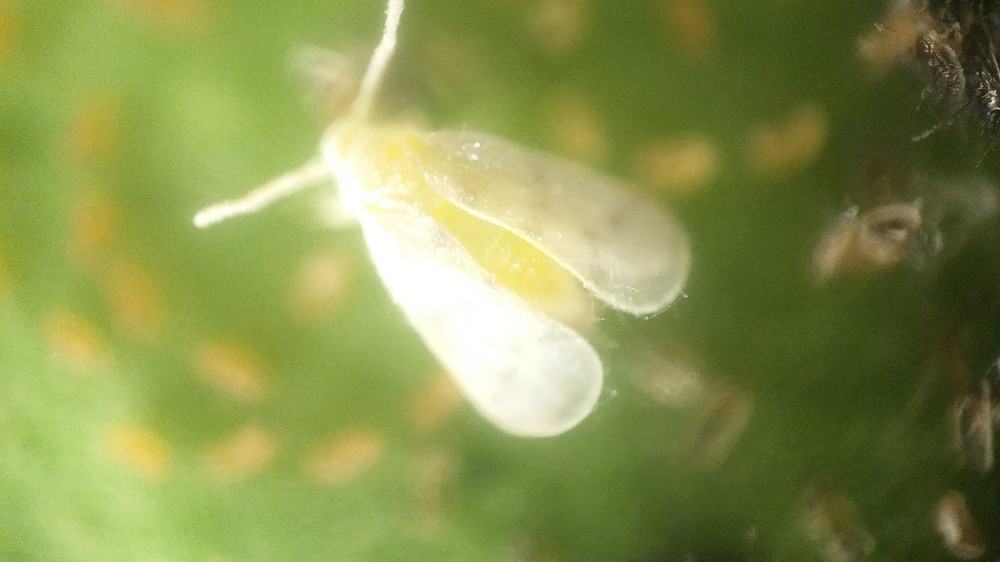Mosca Blanca: (183, 3, 727, 464)
